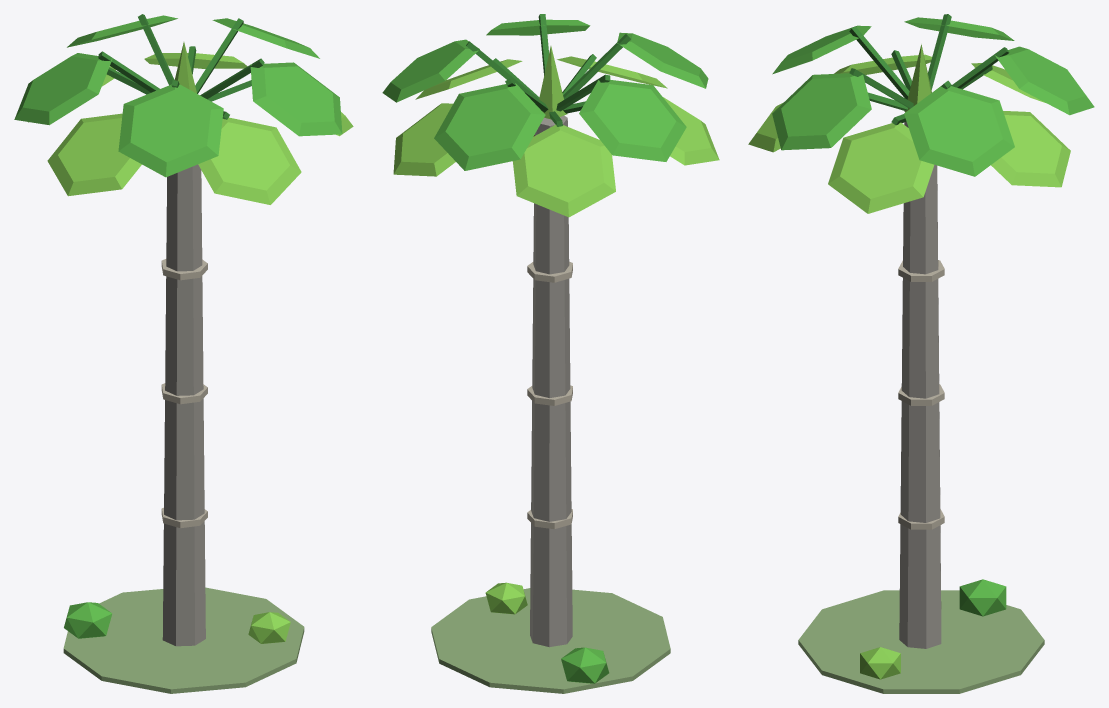
The model's file is buriti.glb.
3 renders of one model, left to right at view 1: azimuth 30°, elevation 25°; view 2: azimuth 150°, elevation 25°; view 3: azimuth 270°, elevation 25°, orthographic.
Parts seen in each view (by area): view 1: corpo; view 2: corpo; view 3: corpo.
Boxes of the visible parts, x1,y1,x2,y2 form: corpo: (14, 14, 353, 693); corpo: (382, 14, 719, 693); corpo: (748, 14, 1094, 693).
Size of the model in its own units: 0.9648 by 1.95 by 1.01.
